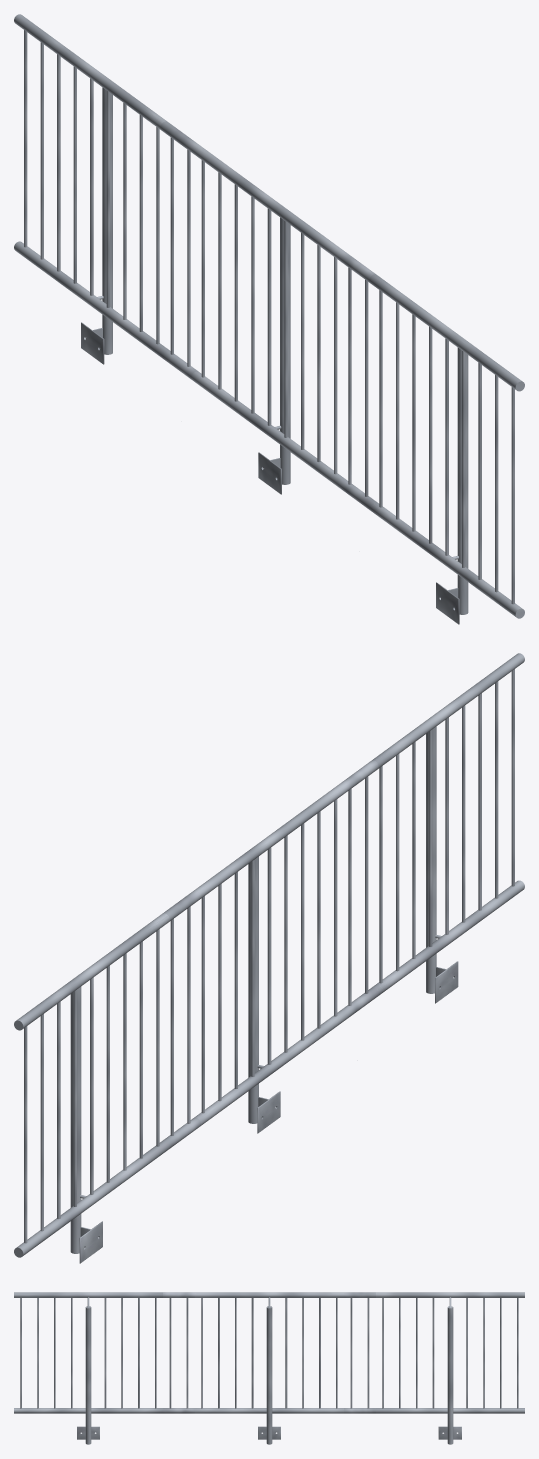
The model's file is gelaender-375.gltf.
3 renders of one model, top to bottom at view 1: azimuth 30°, elevation 25°; view 2: azimuth 150°, elevation 25°; view 3: azimuth 270°, elevation 25°, orthographic. The views are drawn at different scales.
Visible parts, largest first — view 1: SK0139_Geländer-375.001; view 2: SK0139_Geländer-375.001; view 3: SK0139_Geländer-375.001.
Boxes of the visible parts, box(x1,y1,x2,y2) form: SK0139_Geländer-375.001: box(14, 14, 524, 624); SK0139_Geländer-375.001: box(14, 653, 524, 1263); SK0139_Geländer-375.001: box(14, 1292, 524, 1444).
Bounding box in the file's own units: 0.102 × 1.12 × 3.53.
Materials: 2 (2 with a texture image).
